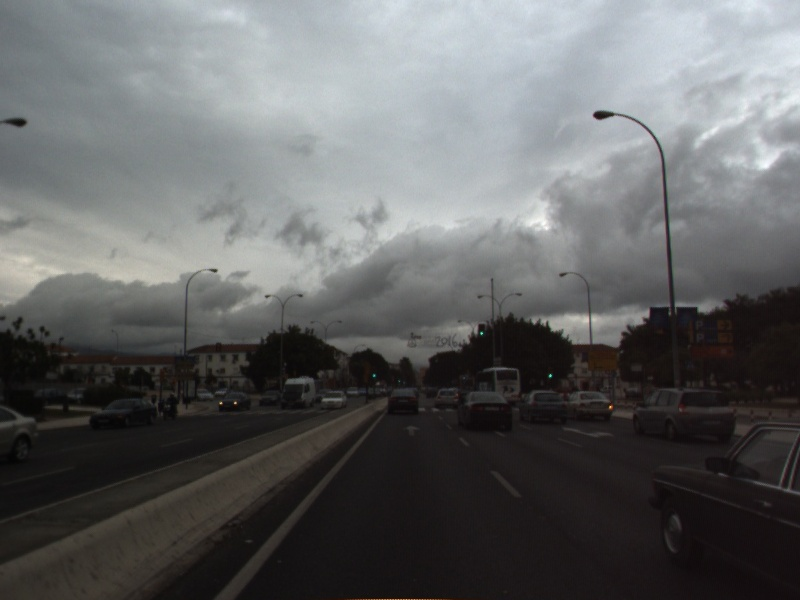STRAIGHT: (401, 423, 423, 438)
STRAIGHT_RIGHT: (559, 424, 616, 441)
